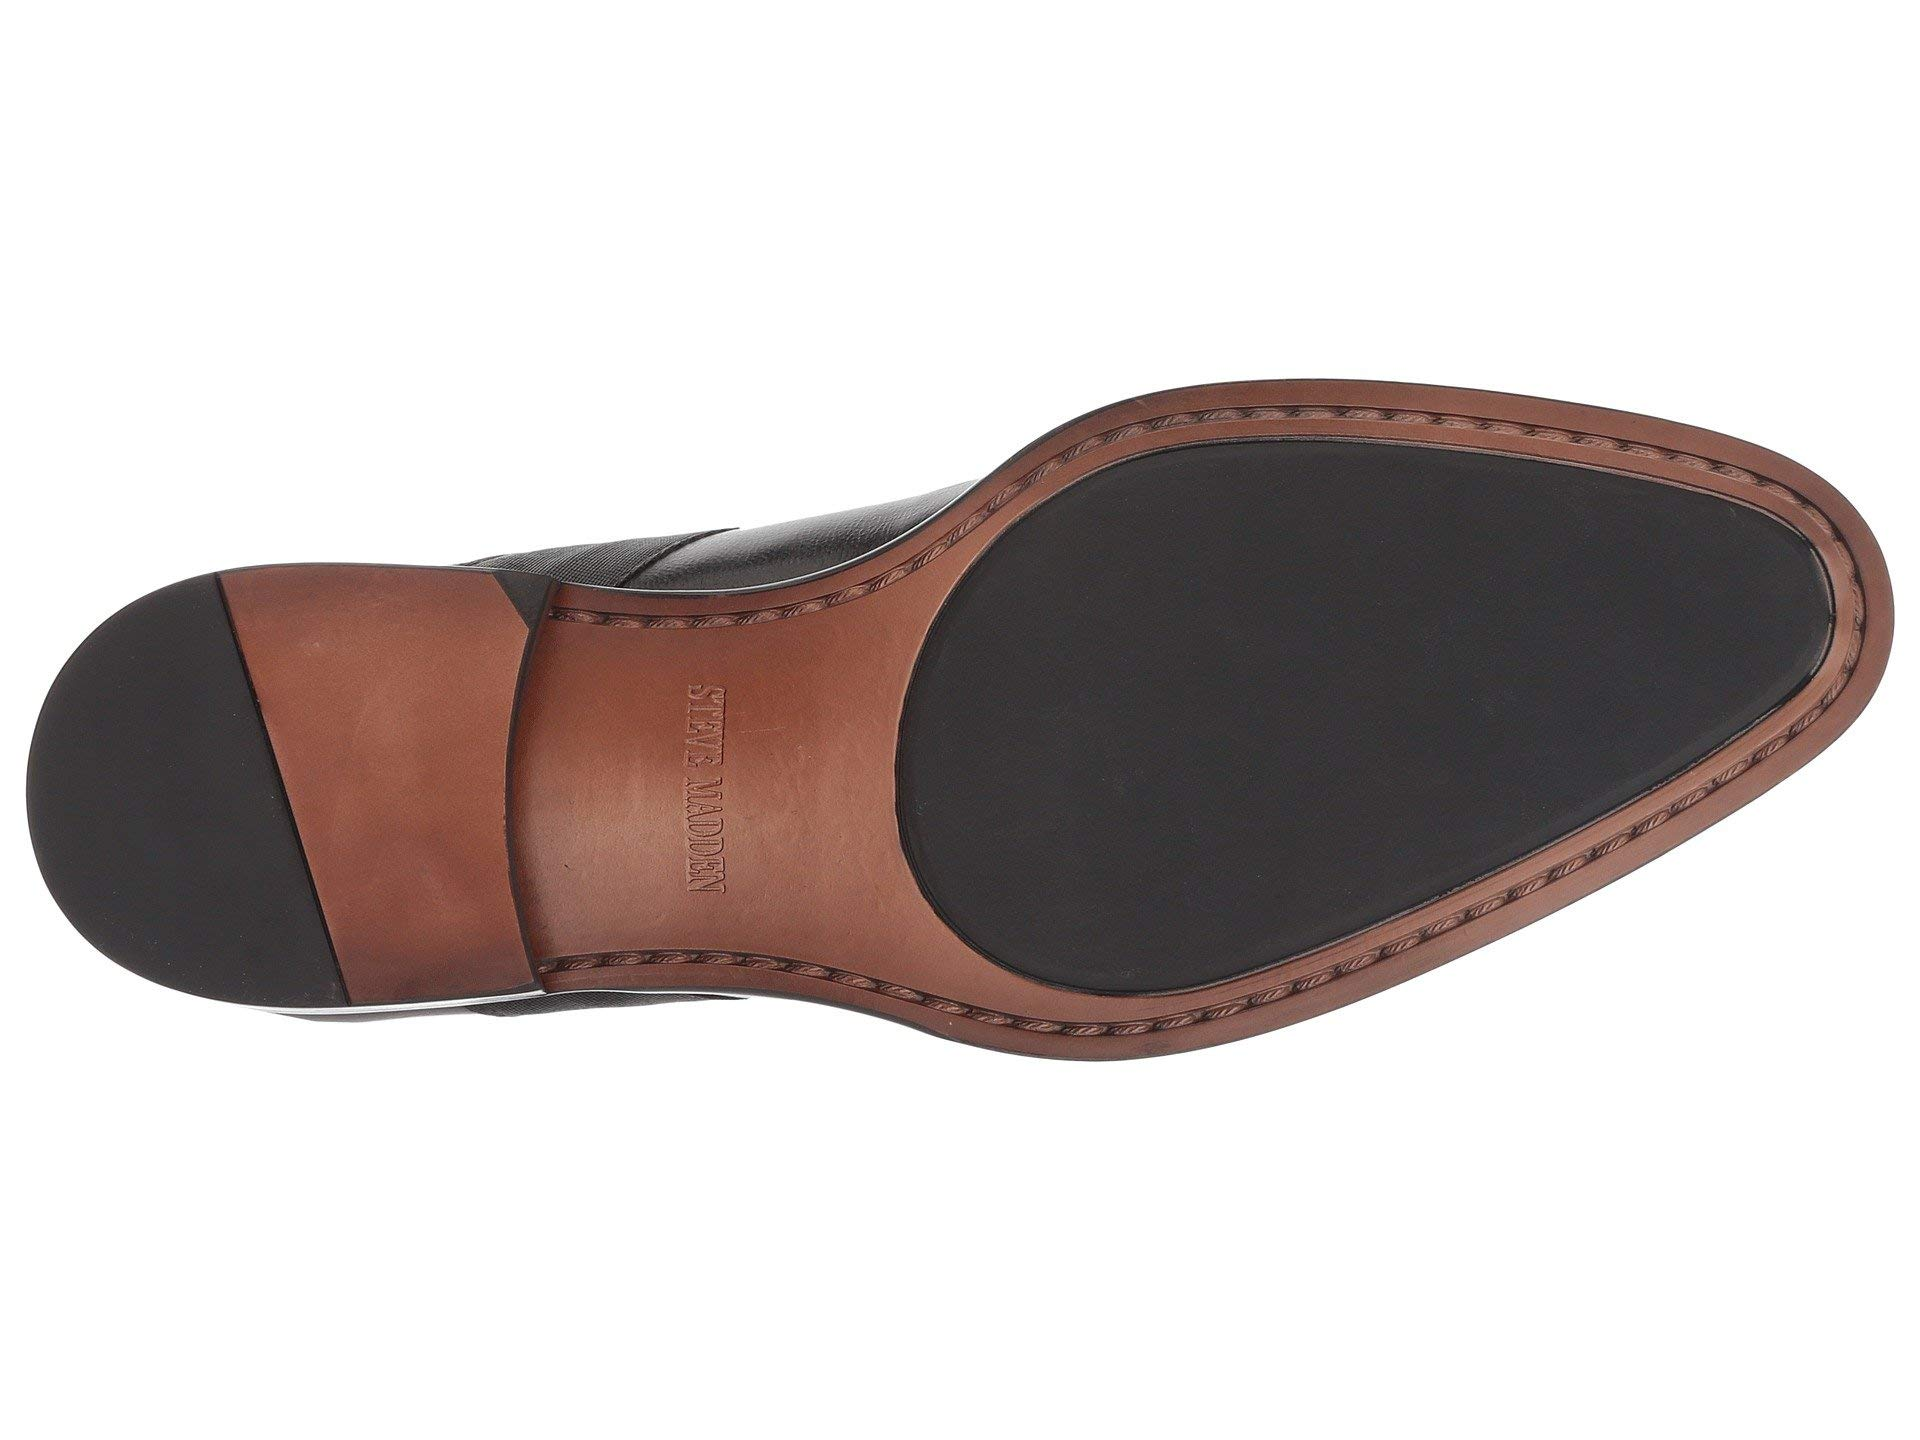line: (142, 617, 441, 900)
text: (588, 650, 827, 909)
